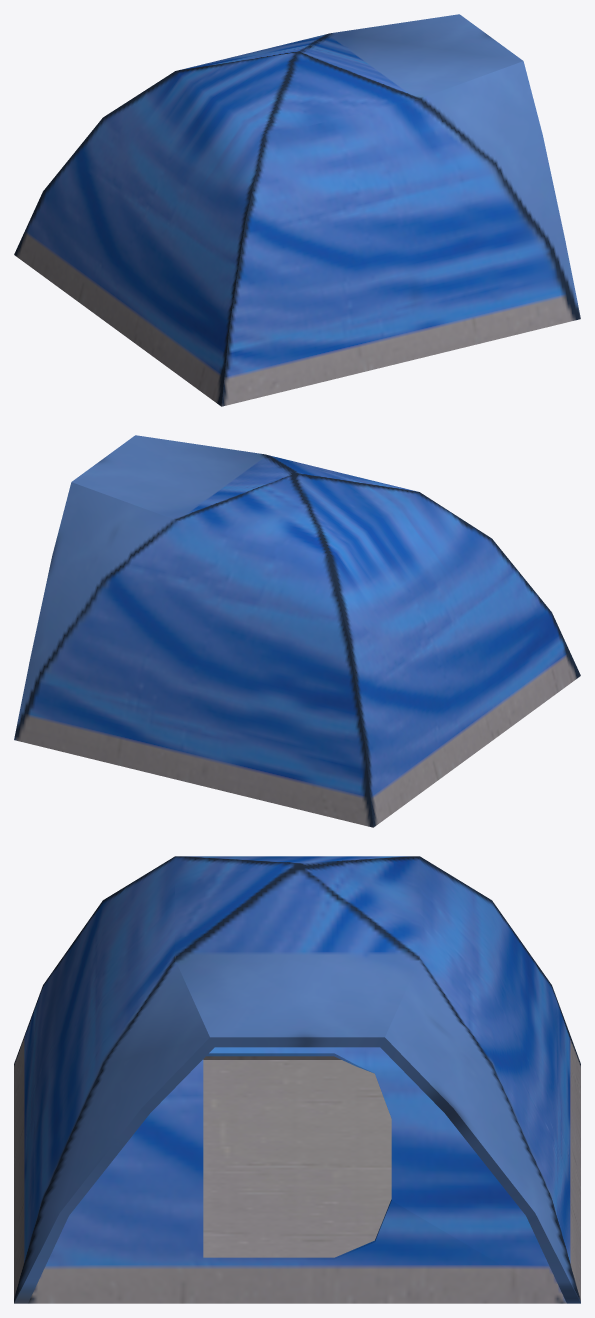
The model's file is tent.glb.
3 renders of one model, top to bottom at view 1: azimuth 30°, elevation 25°; view 2: azimuth 150°, elevation 25°; view 3: azimuth 270°, elevation 25°, orthographic. The views are drawn at different scales.
Parts seen in each view (by area): view 1: Shelter_tent; view 2: Shelter_tent; view 3: Shelter_tent.
Part boxes in pixels (left/top/right/bottom): Shelter_tent: left=14, top=14, right=580, bottom=406; Shelter_tent: left=14, top=435, right=580, bottom=827; Shelter_tent: left=14, top=856, right=580, bottom=1303.
Bounding box in the file's own units: 3.3 × 1.98 × 3.17.
1 material, 1 textured.
